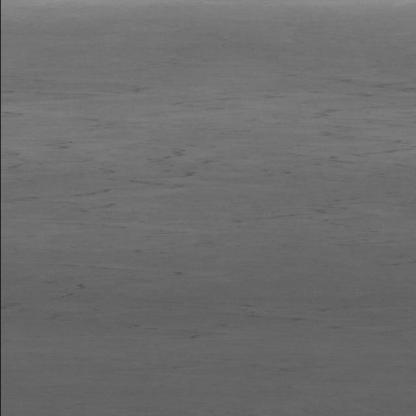silk_spot: (46, 112, 348, 252)
